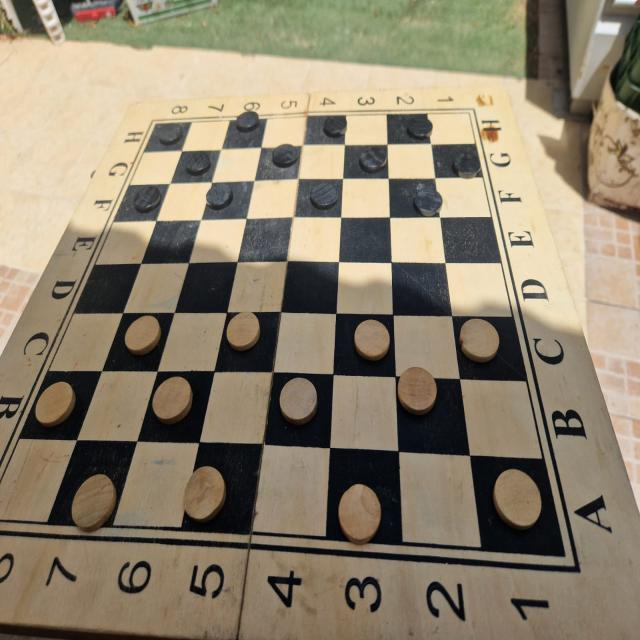black: (443, 143, 487, 189), (392, 109, 438, 143), (407, 183, 446, 223), (220, 110, 275, 138), (346, 144, 388, 179), (303, 179, 345, 213), (307, 110, 357, 135), (200, 180, 243, 208), (263, 144, 309, 169), (133, 181, 166, 215), (153, 124, 188, 150), (182, 153, 216, 174)
white: (482, 452, 548, 542), (337, 469, 389, 551), (174, 458, 237, 524), (61, 466, 119, 530), (274, 366, 323, 436), (341, 310, 396, 370), (452, 316, 504, 372), (397, 357, 442, 419), (222, 303, 266, 357), (153, 372, 192, 432), (120, 306, 166, 356), (33, 378, 77, 429)
